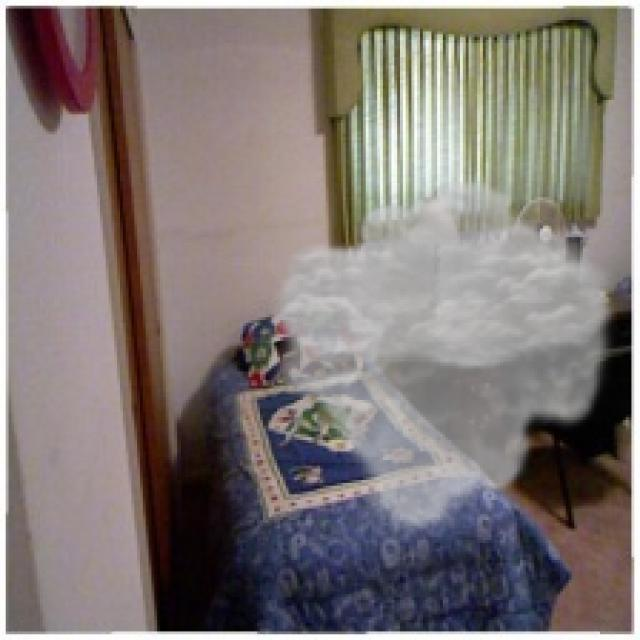Smoke: (263, 174, 623, 537)
